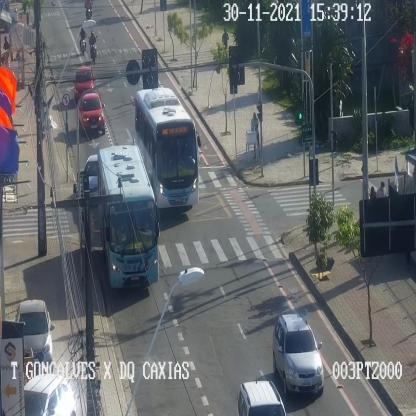bus: (98, 146, 161, 287), (135, 84, 201, 210)
car: (273, 311, 324, 397), (17, 300, 55, 370), (23, 376, 77, 416), (237, 380, 285, 416), (79, 91, 107, 135), (73, 67, 96, 99)
motorbike: (89, 32, 98, 65), (79, 27, 88, 56), (83, 0, 94, 22)
person: (250, 112, 260, 157), (378, 181, 388, 200), (222, 30, 229, 48), (370, 185, 377, 200)
